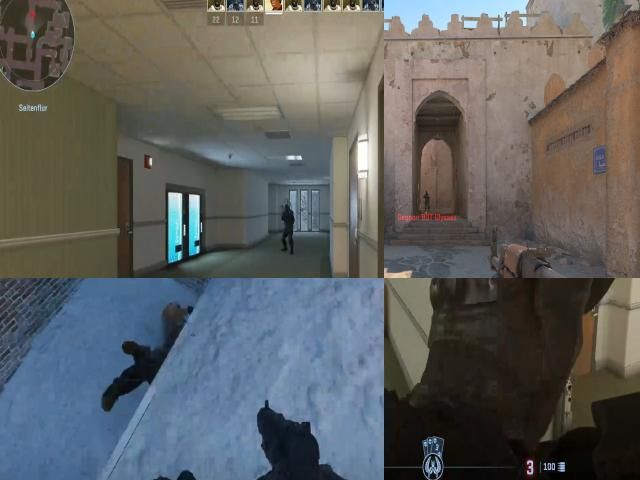CT: (280, 201, 294, 256), (424, 190, 430, 212)
CT-Head: (284, 204, 292, 218), (426, 190, 428, 194)
Dead: (113, 289, 189, 402)
